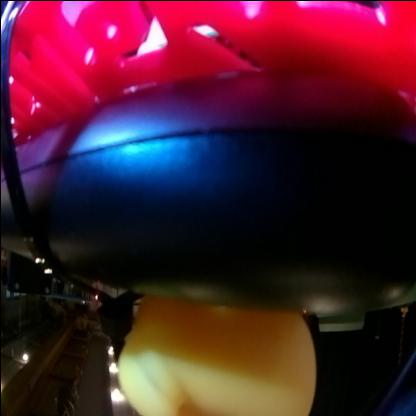Duckie: (117, 311, 313, 414), (399, 307, 407, 317)
Duckiebot: (0, 1, 414, 312)
